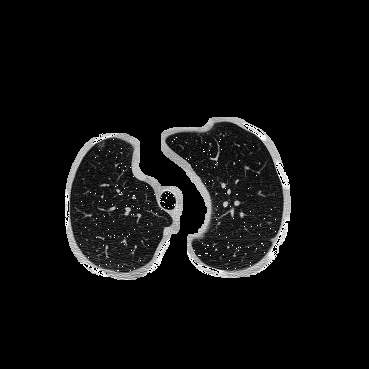PN: (97, 141, 105, 149)
